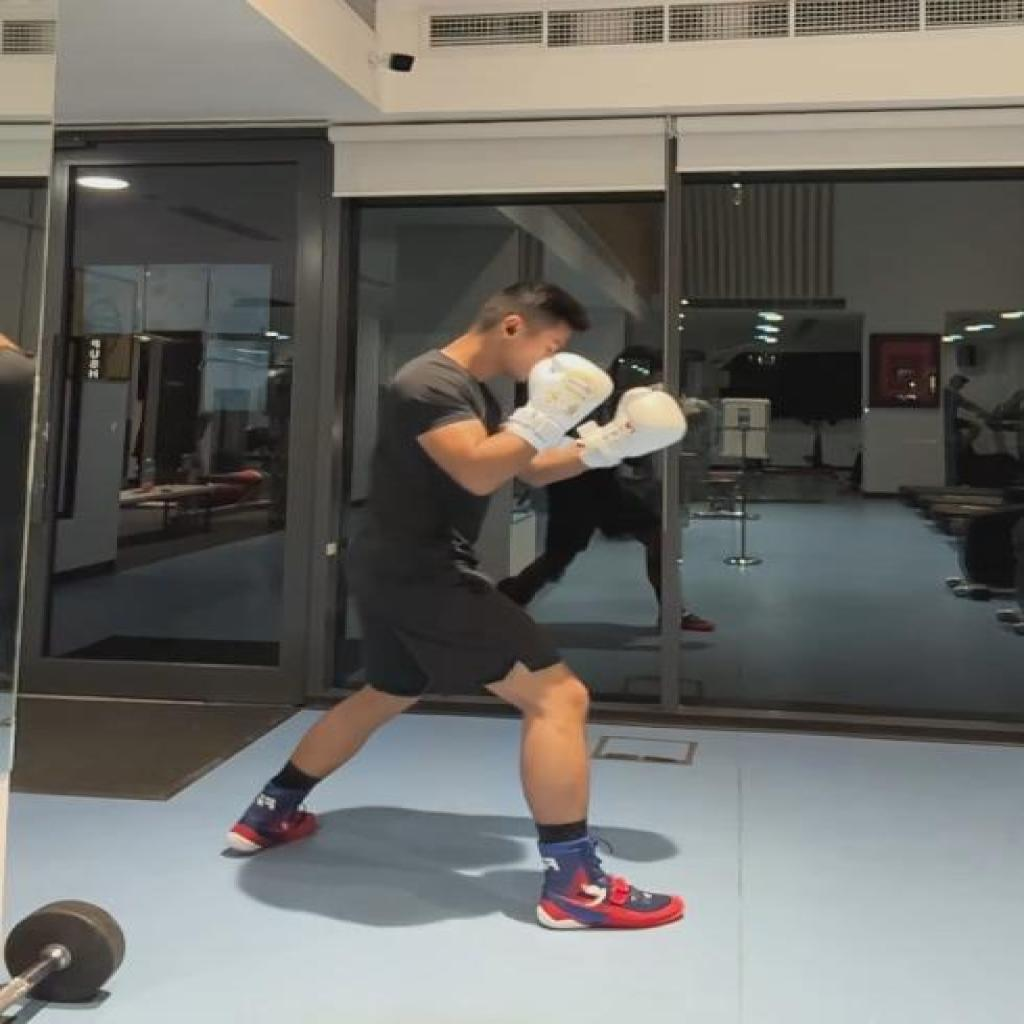no punch: (226, 280, 690, 936)
